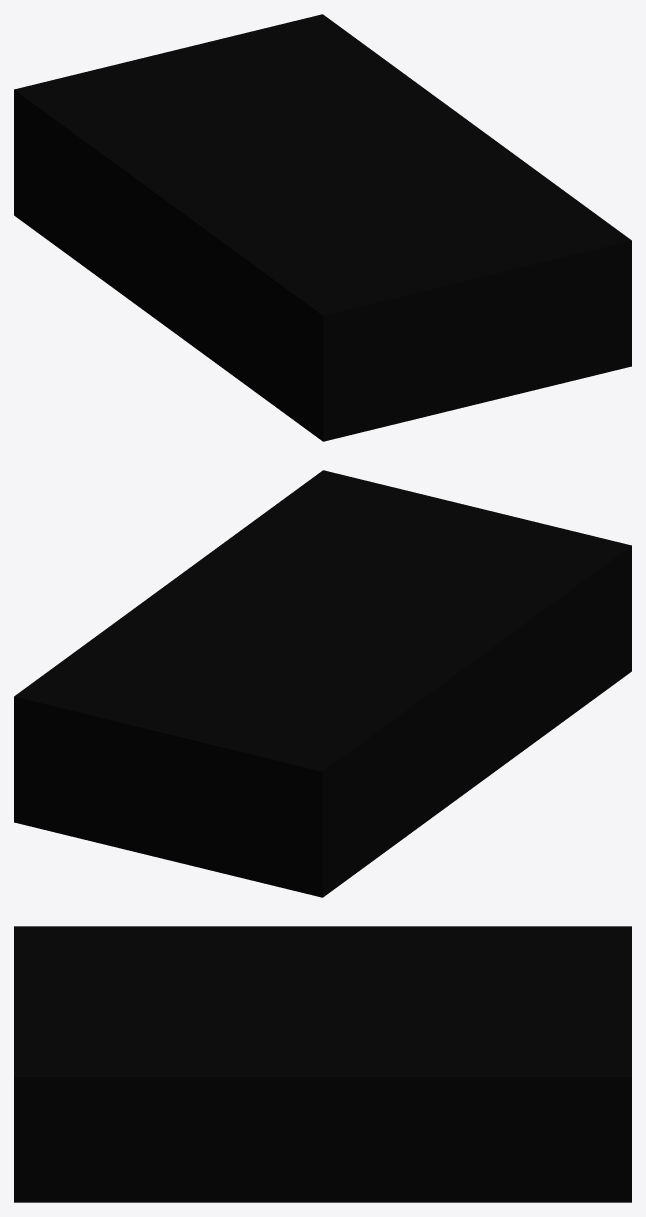
The model's file is BLOCKYGON_BOOK BLUE.fbx.
The picture shows the model from 3 angles, top to bottom: view 1: azimuth 30°, elevation 25°; view 2: azimuth 150°, elevation 25°; view 3: azimuth 270°, elevation 25°; orthographic projection.
Visible parts, largest first — view 1: BLOCKYGON_BOOK1__1_; view 2: BLOCKYGON_BOOK1__1_; view 3: BLOCKYGON_BOOK1__1_.
Boxes of the visible parts, x1=… form: BLOCKYGON_BOOK1__1_: x1=14, y1=14, x2=631, y2=441; BLOCKYGON_BOOK1__1_: x1=14, y1=470, x2=631, y2=897; BLOCKYGON_BOOK1__1_: x1=14, y1=926, x2=631, y2=1202.
Bounding box in the file's own units: 27.2 × 10.6 × 47.19.
